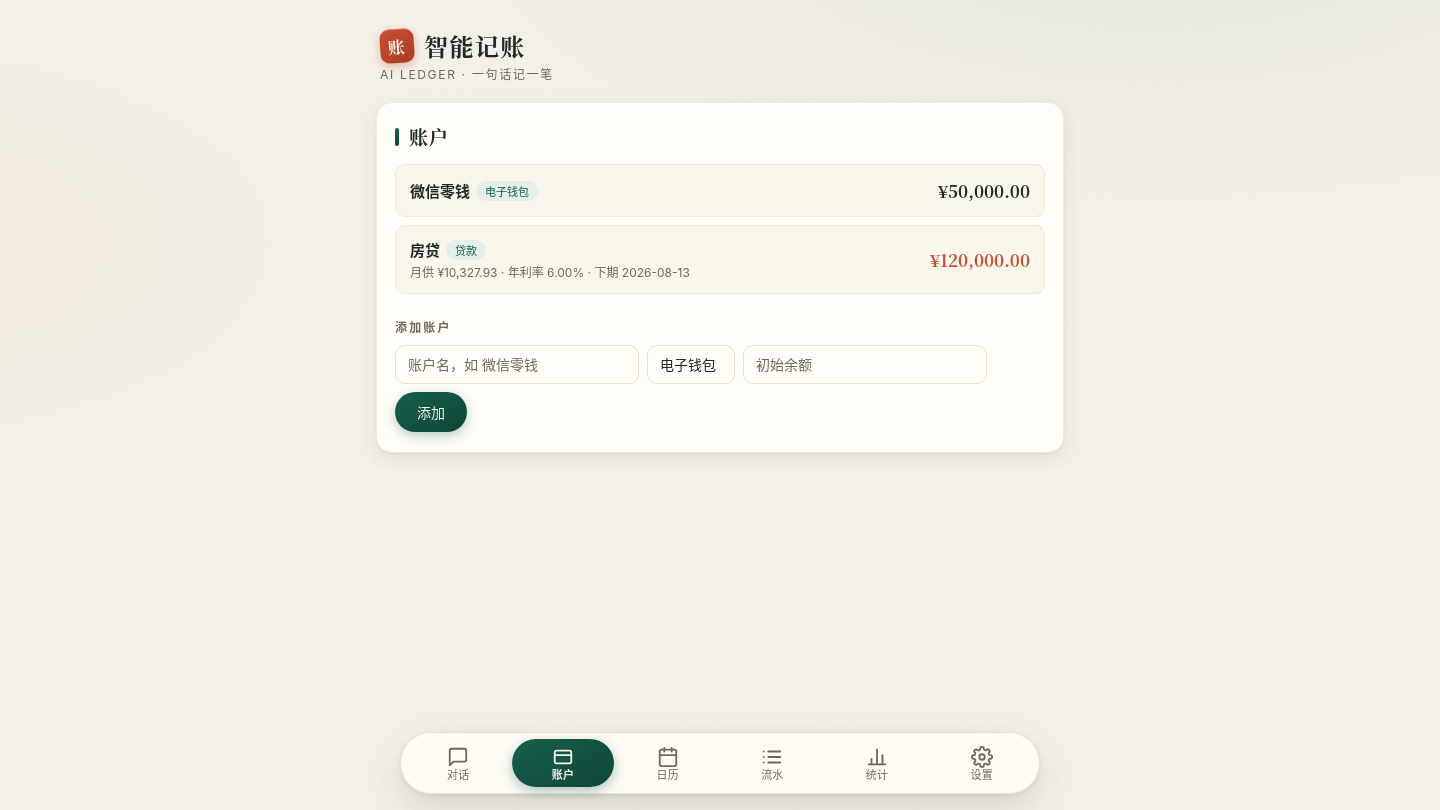
App 冒烟 › 还款日进入聊天自动提示并支持选账户还款
What coordinates should you click on to do the following:
click the button "对话"
I would click on:
 (458, 763)
Its box is [407, 739, 510, 787].
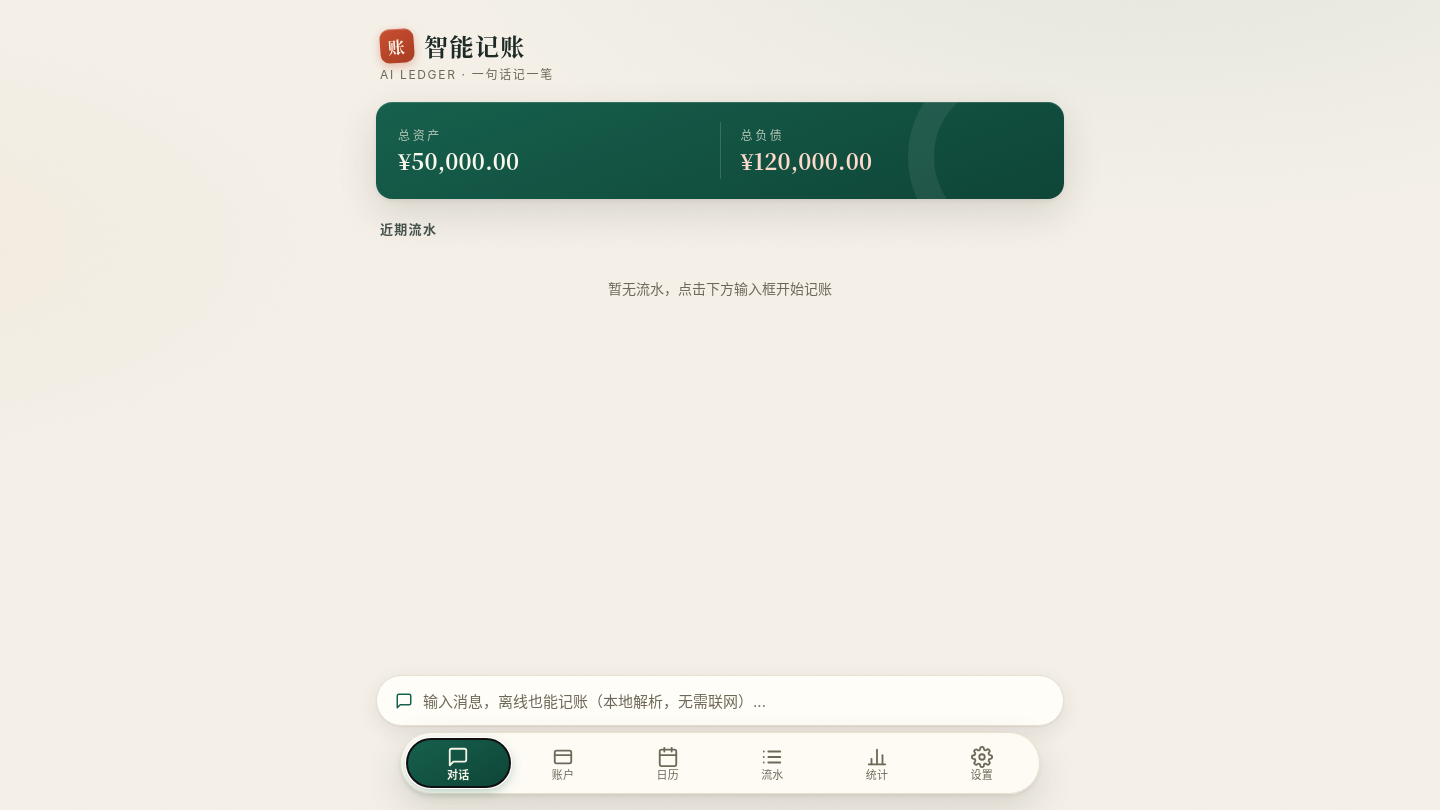
What coordinates should you click on to do the following:
click the button "输入消息，离线也能记账（本地解析，无需联网）..."
I would click on:
 (720, 700)
Its box is [376, 675, 1064, 726].
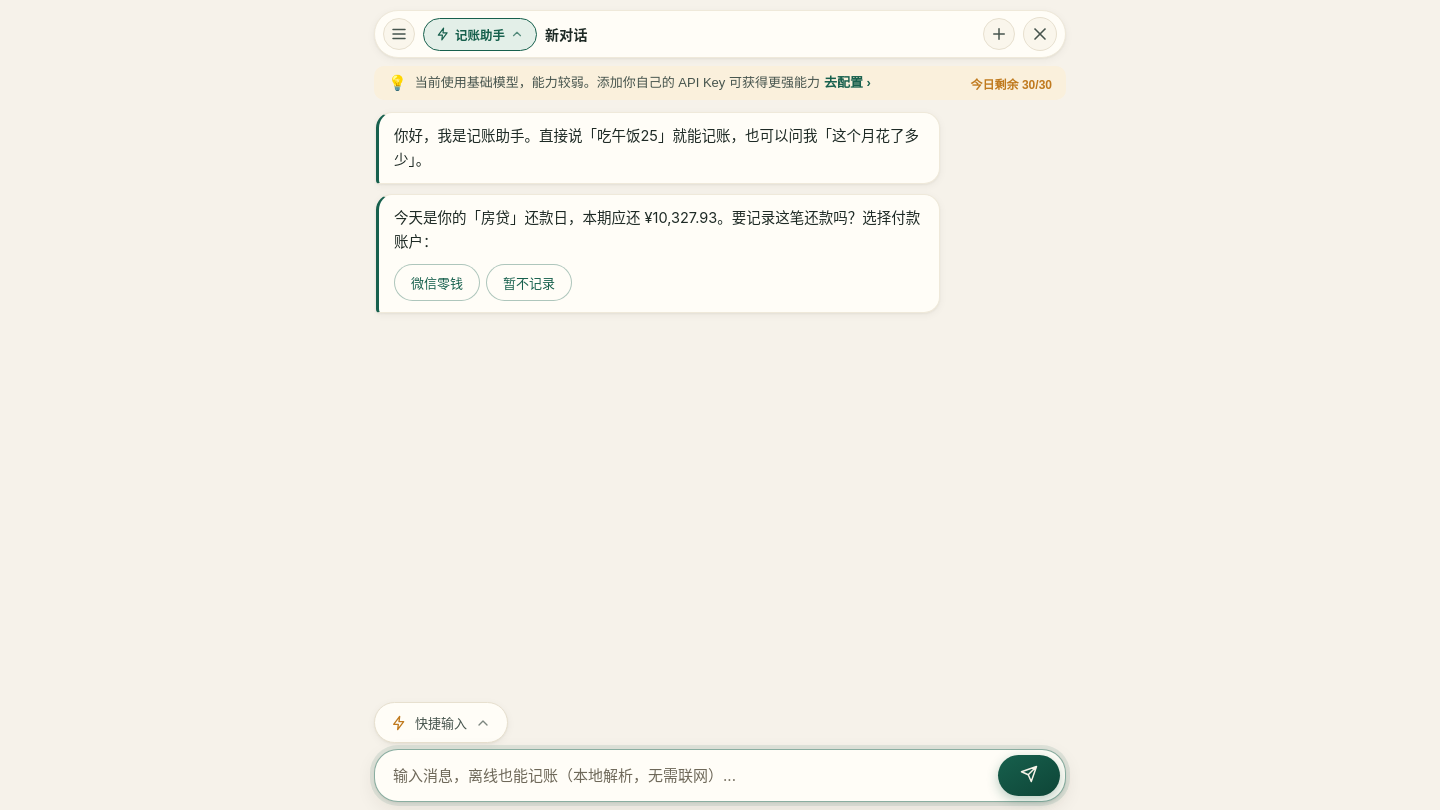
Expected: the text "今天是你的「房贷」还款日，本期应还 ¥10,327.93。要记录这笔还款吗？选择付款账户： 微信零钱 暂不记录" is shown, [376, 194, 940, 313]
Expected: the button "微信零钱" is shown
Expected: the button "暂不记录" is shown, [486, 264, 572, 301]
// 选择付款账户 → 添加还款流水、扣减账户余额、冲减贷款本金
What coordinates should you click on to do the following:
click the button "微信零钱"
I would click on:
 (437, 282)
Its box is [394, 264, 480, 301].
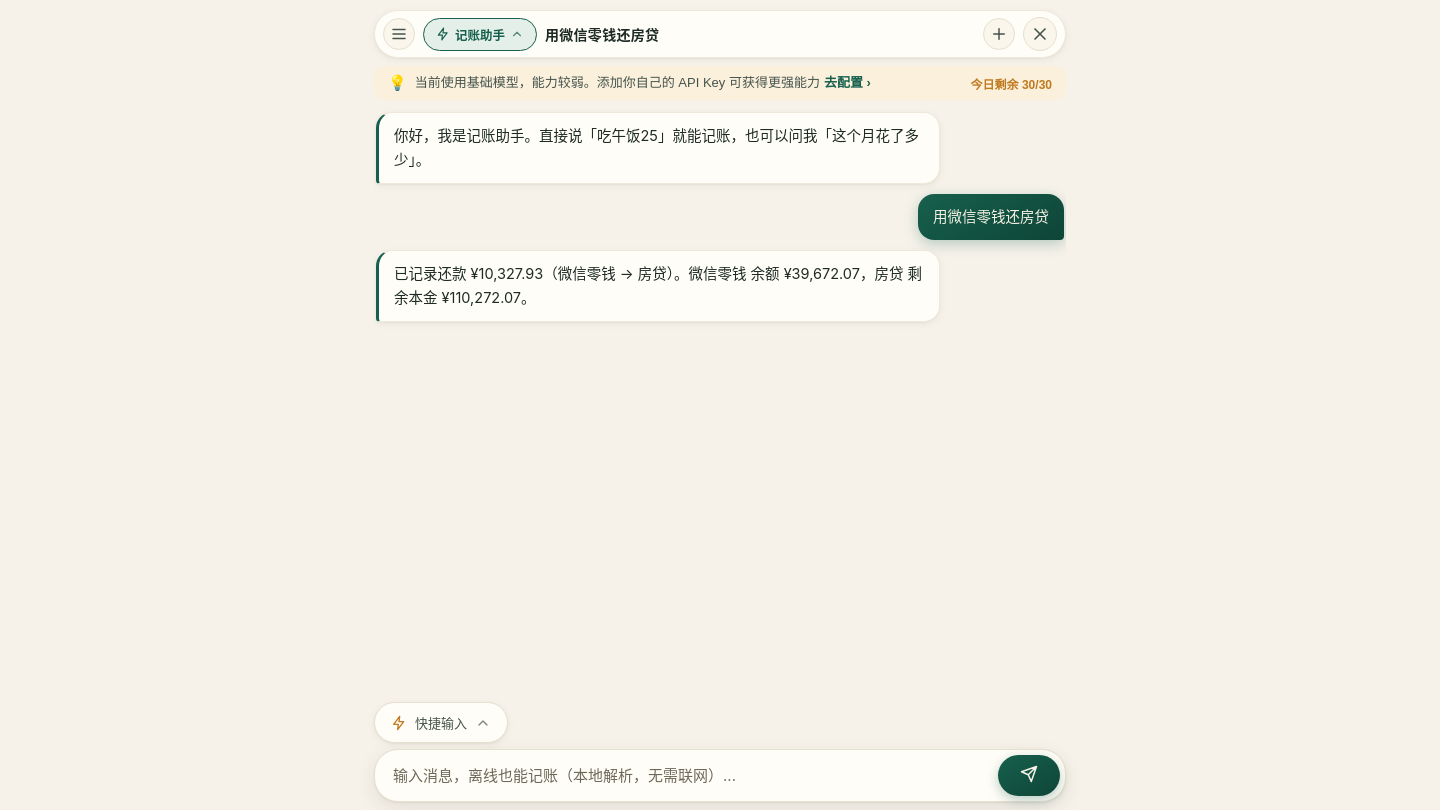
Expected: the text "已记录还款" is shown, [394, 265, 922, 306]
